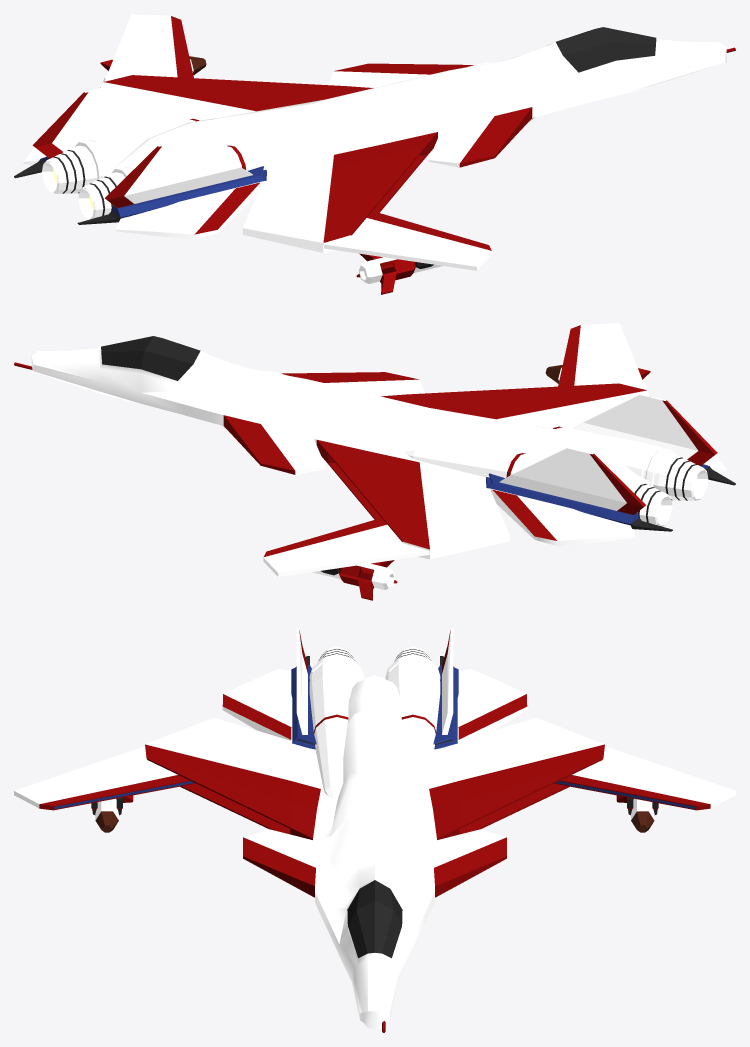
File: jet.glb
3 views of the same model, one above another, from view 1: azimuth 30°, elevation 25°; view 2: azimuth 150°, elevation 25°; view 3: azimuth 270°, elevation 25° (orthographic). The views are drawn at different scales.
Visible parts, largest first — view 1: Cube_1, Cube001_2, Cylinder_5, Cube002_3, Cylinder002_7; view 2: Cube_1, Cube001_2, Cylinder_5, Cube002_3, Cylinder002_7; view 3: Cube_1, Cylinder_5, Cube001_2, Cube002_3, Cylinder002_7.
Part boxes in pixels (box(x1,y1,x2,y2)): Cube_1: box(23, 14, 726, 270); Cube001_2: box(32, 85, 252, 207); Cylinder_5: box(42, 116, 349, 219); Cube002_3: box(14, 156, 266, 224); Cylinder002_7: box(100, 56, 442, 294); Cube_1: box(31, 323, 726, 576); Cube001_2: box(499, 394, 717, 514); Cylinder_5: box(404, 424, 708, 526); Cube002_3: box(486, 464, 735, 531); Cylinder002_7: box(312, 365, 650, 600); Cube_1: box(14, 669, 735, 1028); Cylinder_5: box(309, 647, 440, 798); Cube001_2: box(296, 629, 453, 734); Cube002_3: box(291, 656, 458, 749); Cylinder002_7: box(91, 795, 658, 832).
Size of the model in its own units: 8.28 by 1.16 by 7.15.
